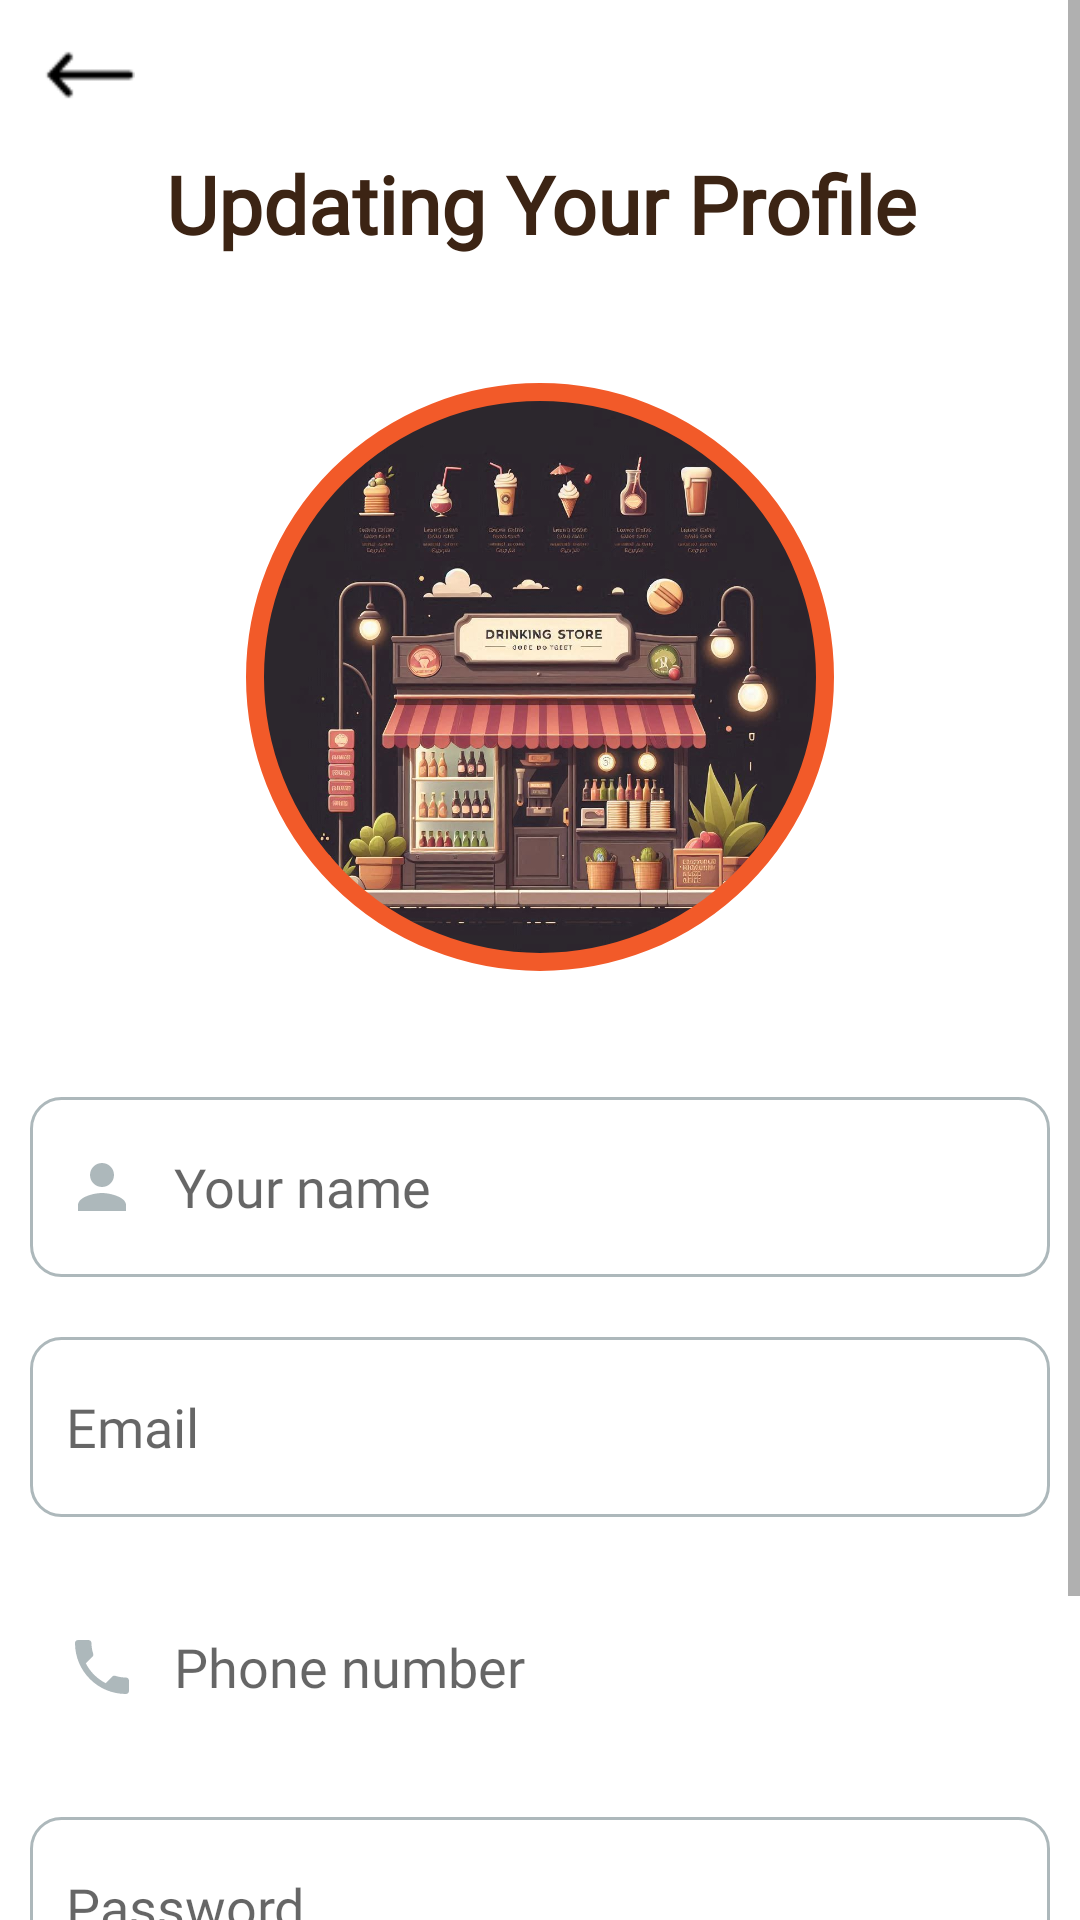

Where icons sit on this 1080 x 1920 app screen, as [x1, y1, x2, y2]:
back: [46, 52, 135, 98]
